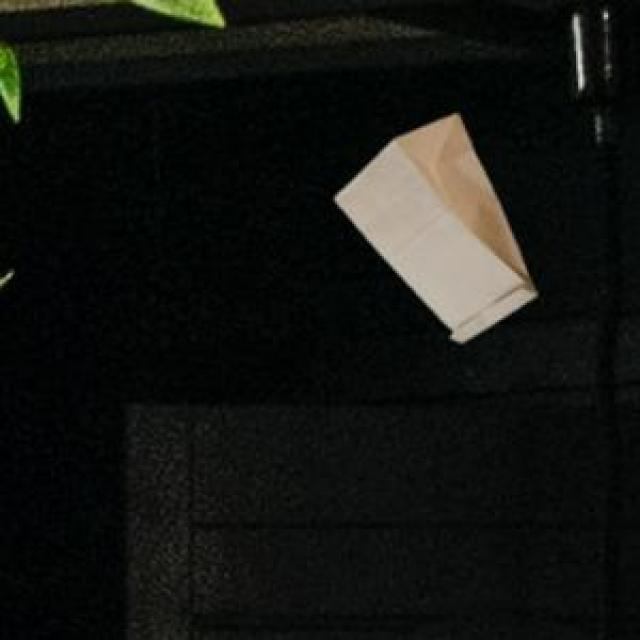paper: (331, 111, 531, 337)
